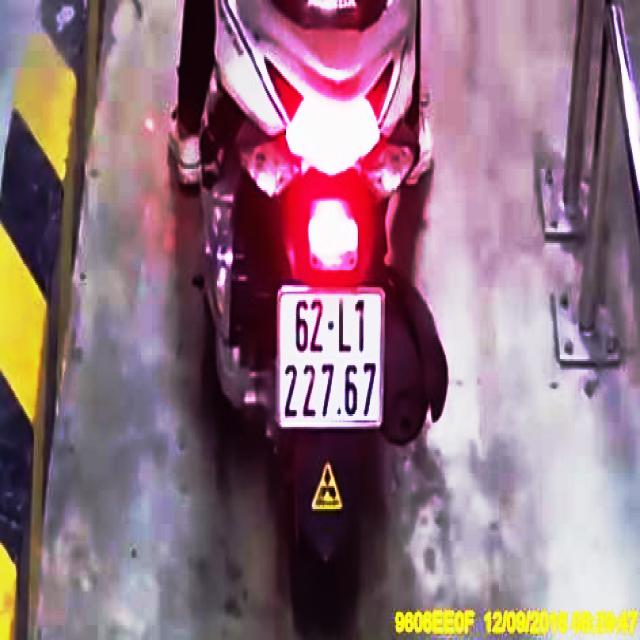license_plate: (283, 294, 387, 428)
